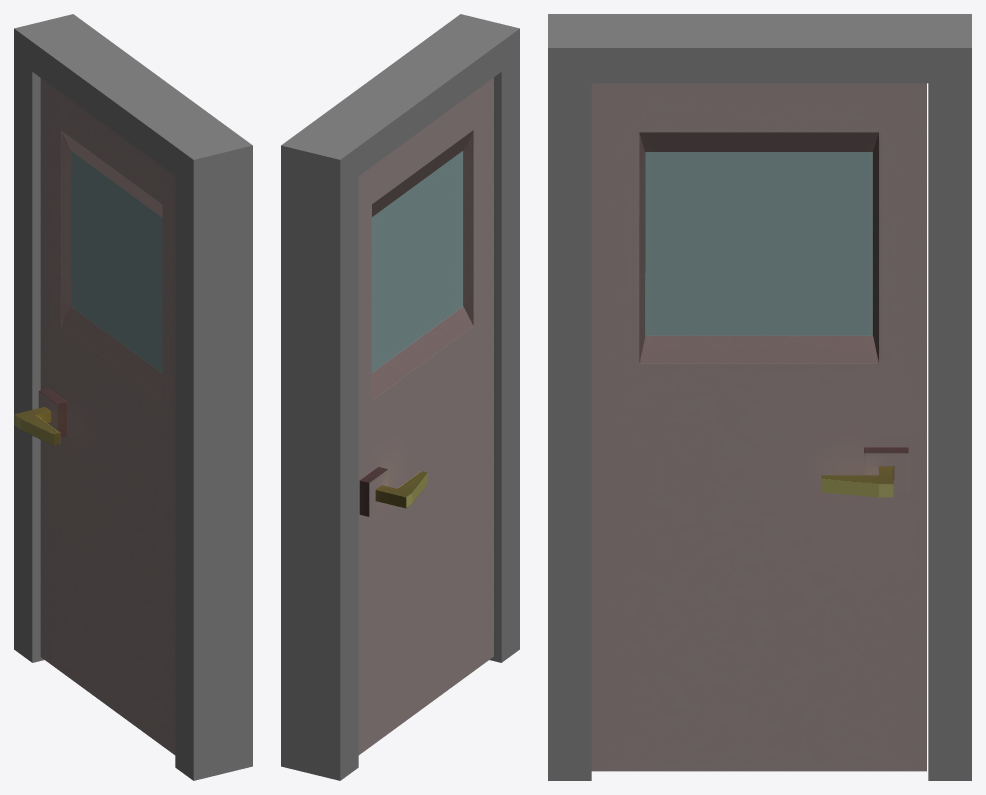
File: drzwi.fbx
3 views of the same model, side by side, from view 1: azimuth 30°, elevation 25°; view 2: azimuth 150°, elevation 25°; view 3: azimuth 270°, elevation 25° (orthographic). The views are drawn at different scales.
Parts seen in each view (by area): view 1: door, door_frame; view 2: door_frame, door; view 3: door, door_frame.
Part boxes in pixels (left/top/right/bottom): door: left=14, top=78, right=175, bottom=754; door_frame: left=14, top=14, right=252, bottom=780; door_frame: left=281, top=14, right=519, bottom=780; door: left=358, top=77, right=493, bottom=754; door: left=591, top=83, right=926, bottom=771; door_frame: left=548, top=14, right=971, bottom=780.
Bounding box in the file's own units: 59.33 × 283 × 148.
